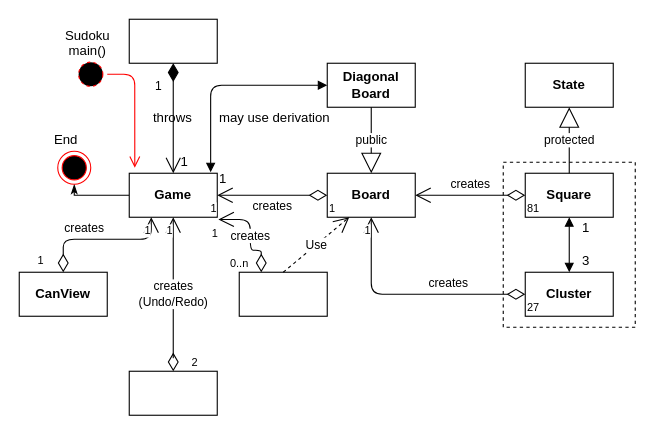
This 655x435 diagram has some shape labels left out. Here are the shapes that lost their labels. From the top down, the box of each, then its label:
(128, 18, 217, 63): Exceptions
(238, 271, 327, 316): BoardState
(128, 370, 217, 415): Stack
